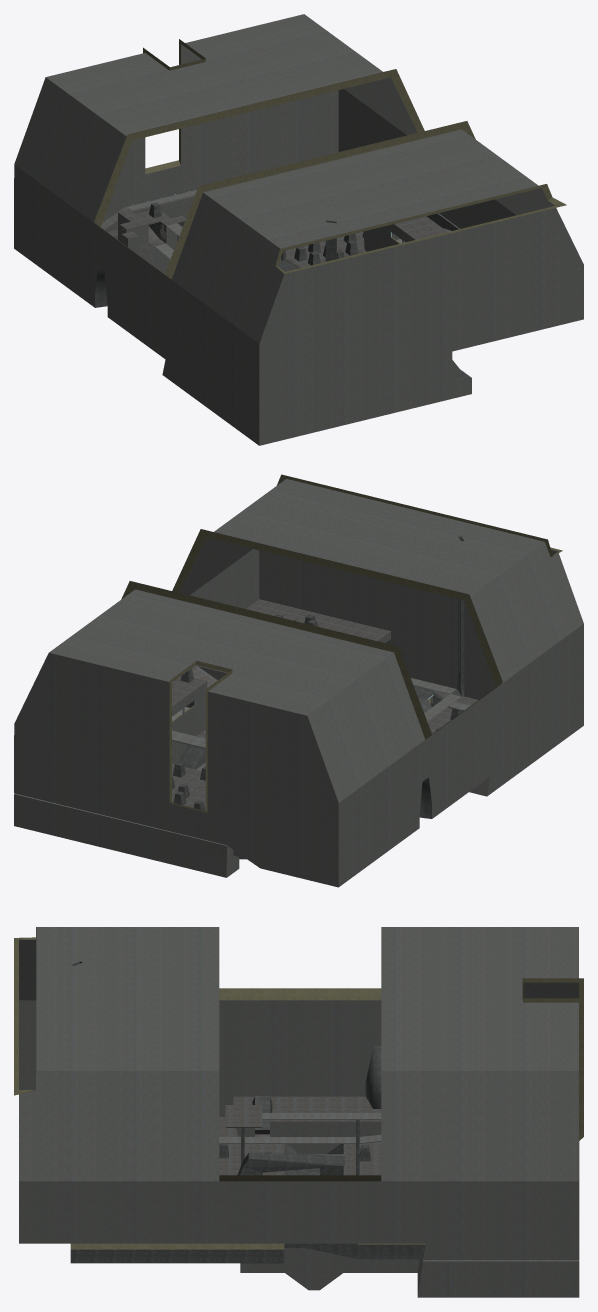
Rendered from hangemhigh.obj.
The picture shows the model from 3 angles, top to bottom: view 1: azimuth 30°, elevation 25°; view 2: azimuth 150°, elevation 25°; view 3: azimuth 270°, elevation 25°; orthographic projection. The views are drawn at different scales.
Parts seen in each view (by area): view 1: -001, -000; view 2: -001, -000; view 3: -001, -000.
Part boxes in pixels (x1,y1,x2,y2): -001: (14,14,583,445); -000: (95,188,471,380); -001: (14,474,583,887); -000: (23,536,478,843); -001: (14,927,583,1297); -000: (70,961,425,1262).
Size of the model in its own units: 76.15 by 44.29 by 98.16.
10 materials, 10 textured.
